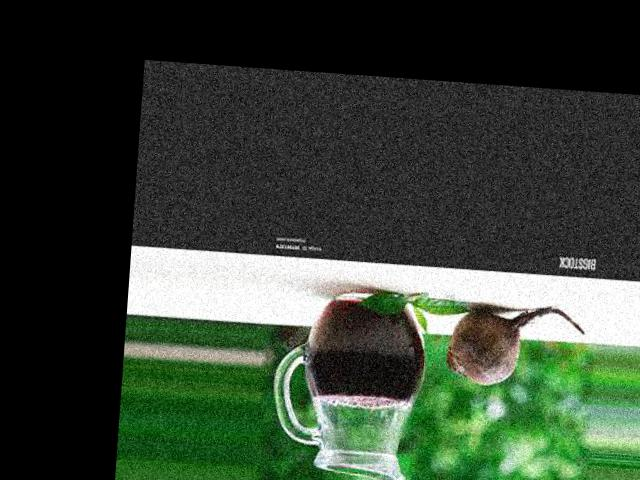beet: (445, 298, 584, 389)
